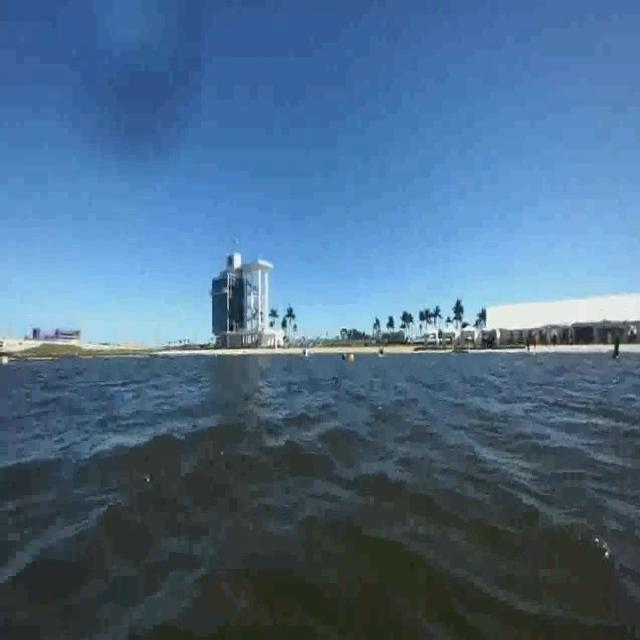green-column-buoy: (612, 337, 622, 359)
yellow-buoy: (349, 350, 354, 368)
